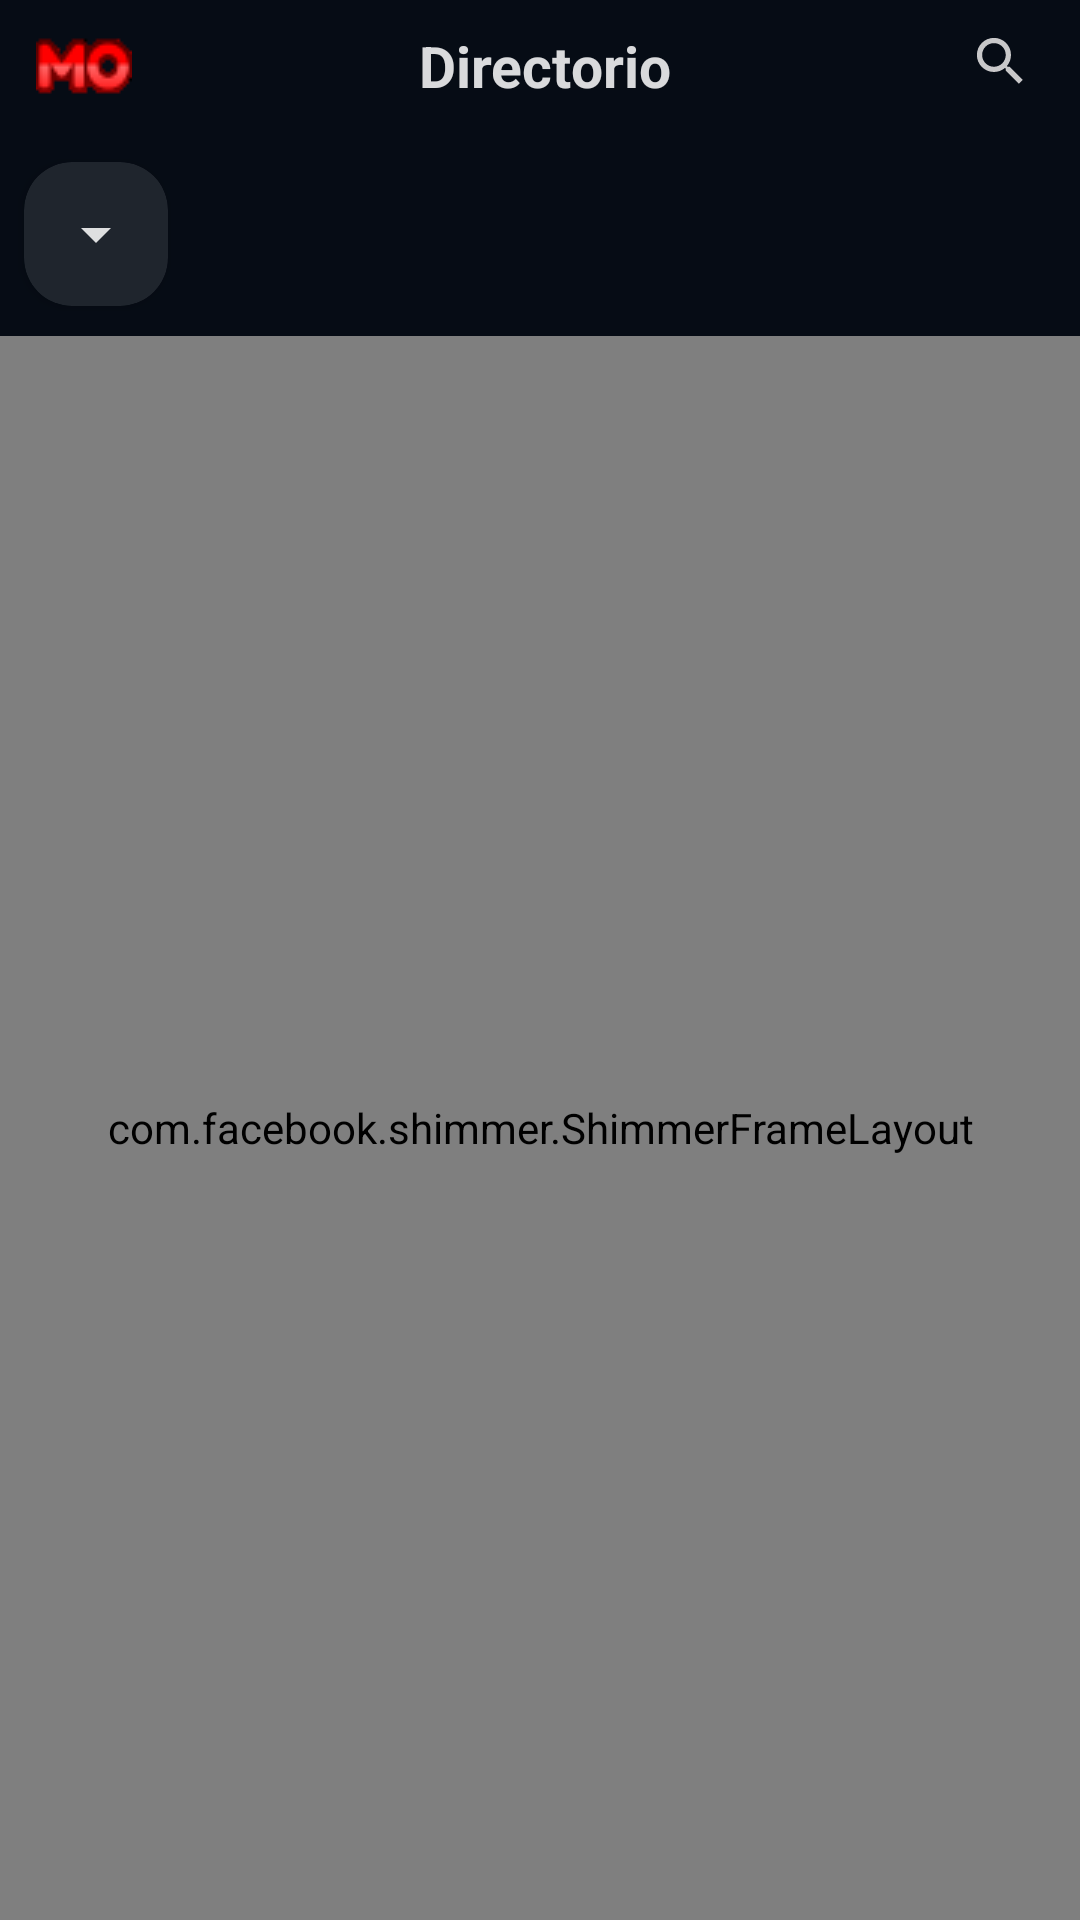

Where to tap for icons on this 1080 x 1920 app screen, as (x,y):
search: (1000,61)
